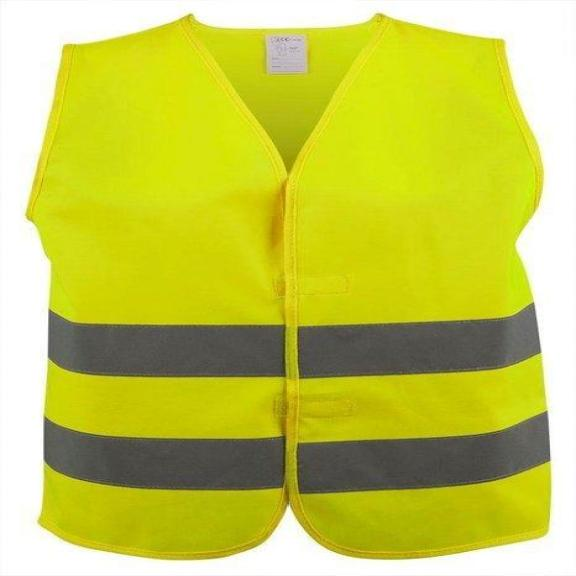safety_vest: (30, 4, 552, 557)
